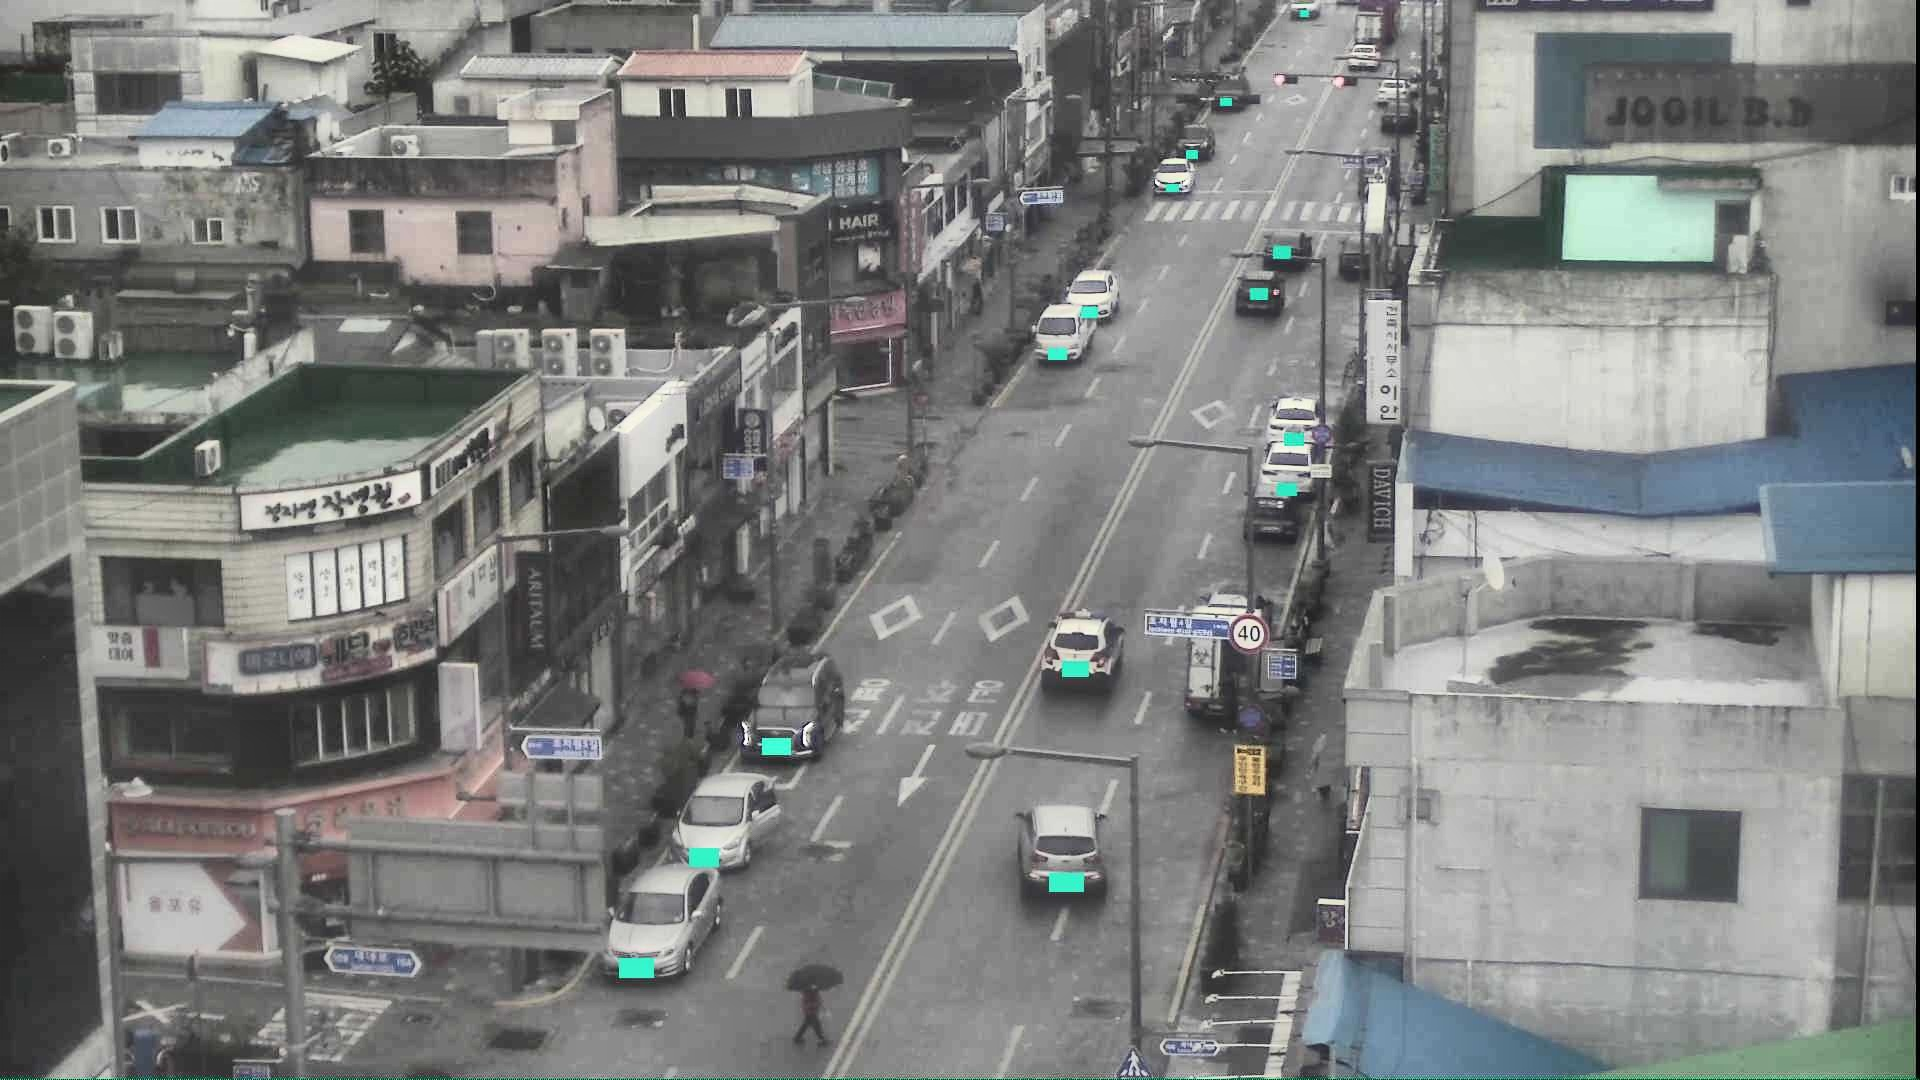jaywalk: (1215, 669, 1244, 738)
sidewalk: (919, 336, 939, 384), (967, 277, 986, 319)
um_jaywalk: (785, 960, 847, 1052)
um_sidewalk: (673, 671, 713, 738), (1311, 731, 1338, 800)
